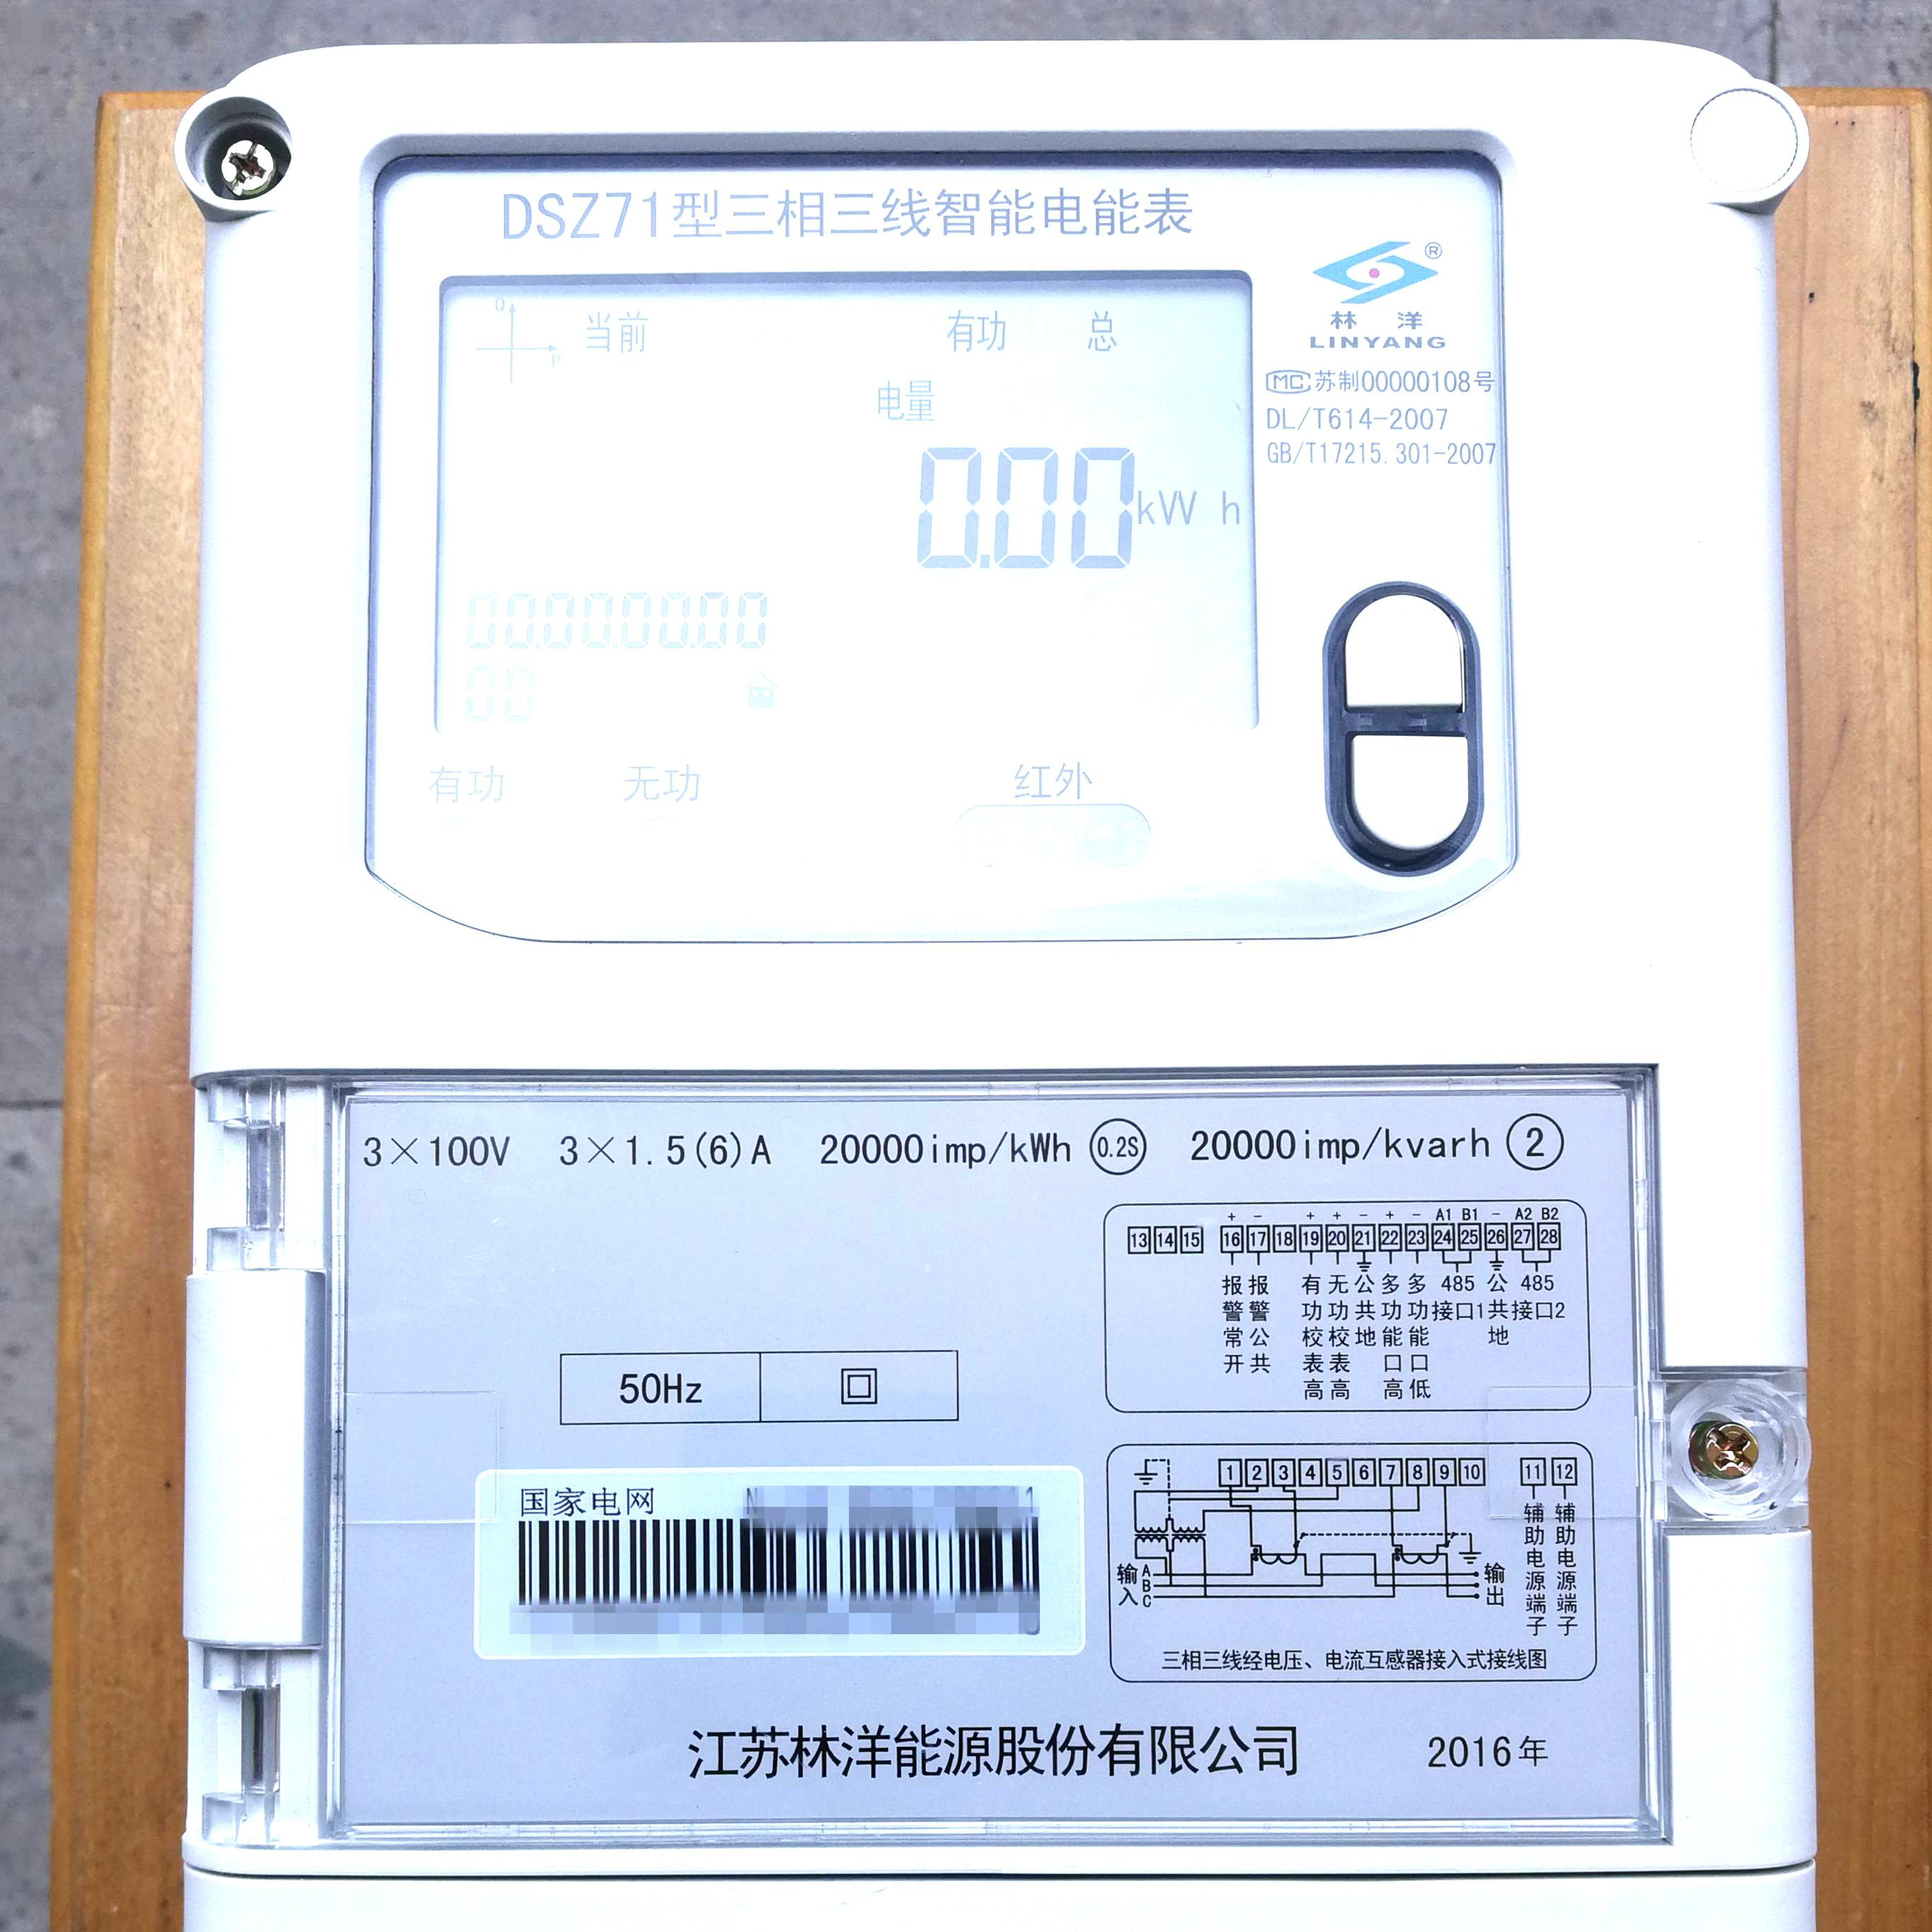digital: (191, 39, 1810, 1927)
